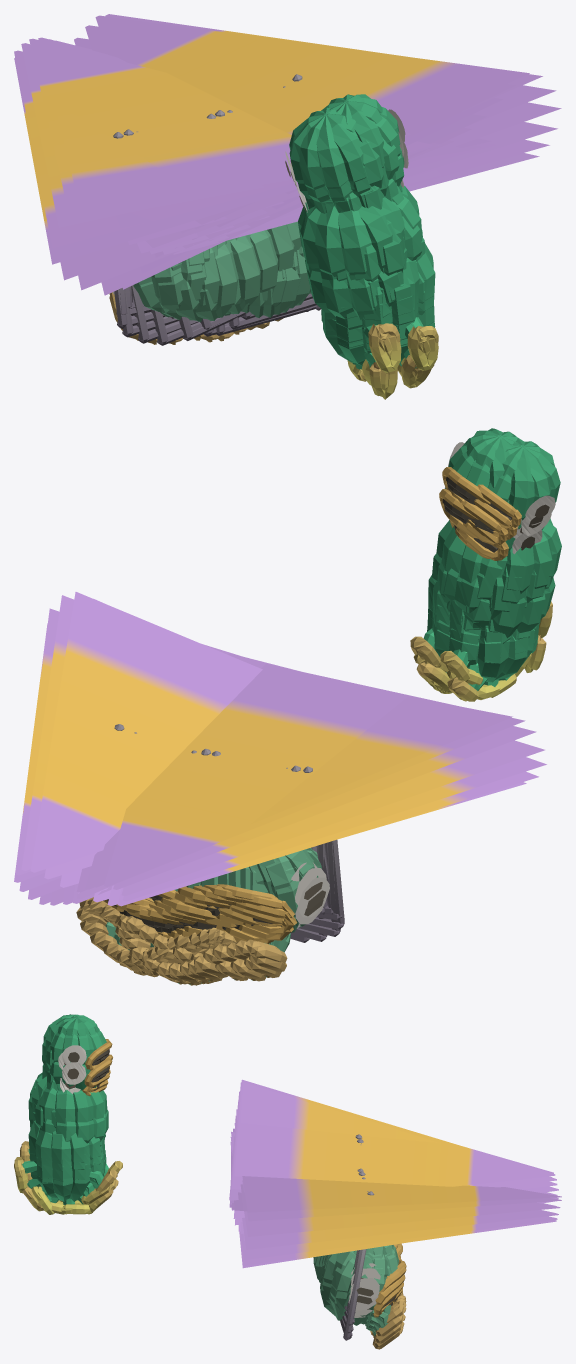
Rendered from Flyingpurblegree.fbx.
3 renders of one model, top to bottom at view 1: azimuth 30°, elevation 25°; view 2: azimuth 150°, elevation 25°; view 3: azimuth 270°, elevation 25°, orthographic. The views are drawn at different scales.
Visible parts, largest first — view 1: NewLayer0, NewLayer3; view 2: NewLayer0, NewLayer3; view 3: NewLayer0, NewLayer3.
Boxes of the visible parts, x1,y1,x2,y2 form: NewLayer0: [14, 14, 561, 345]; NewLayer3: [285, 94, 438, 399]; NewLayer0: [14, 592, 546, 985]; NewLayer3: [410, 428, 561, 701]; NewLayer0: [229, 1079, 561, 1349]; NewLayer3: [14, 1014, 122, 1214].
Size of the model in its own units: 7.55 by 6.04 by 10.57.
